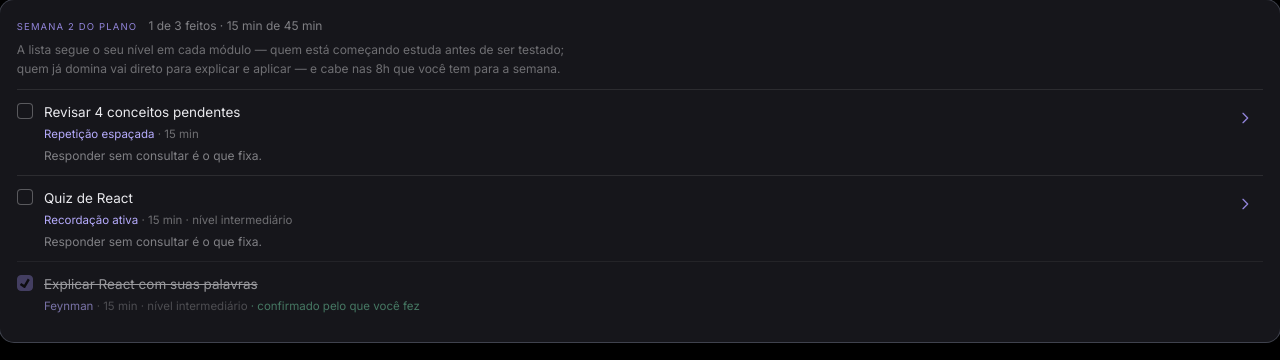
Scenario: marcar grava no servidor
The image size is (1280, 360).
Step 1. Click the checkbox labelled "Quiz de React" → (25, 197), box [17,189,33,205]
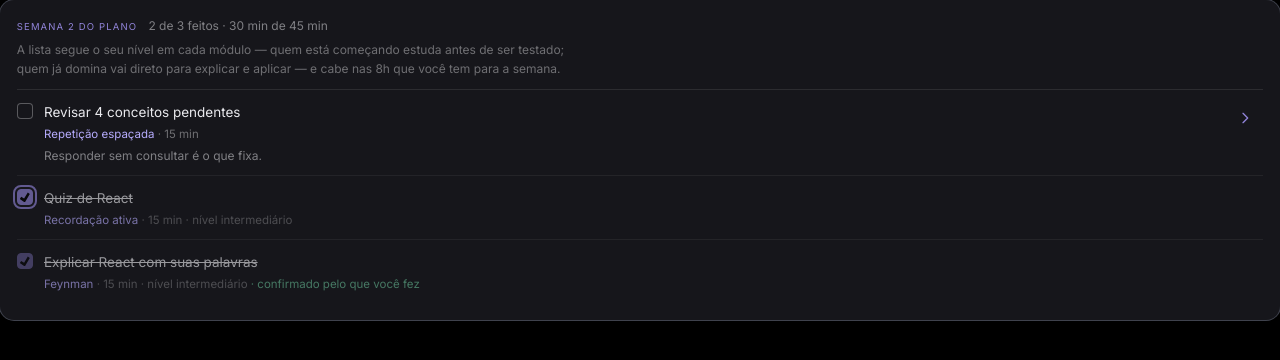
Expected: the text "2 de 3 feitos · 30 min de 45 min" is shown, [148,17,328,35]
